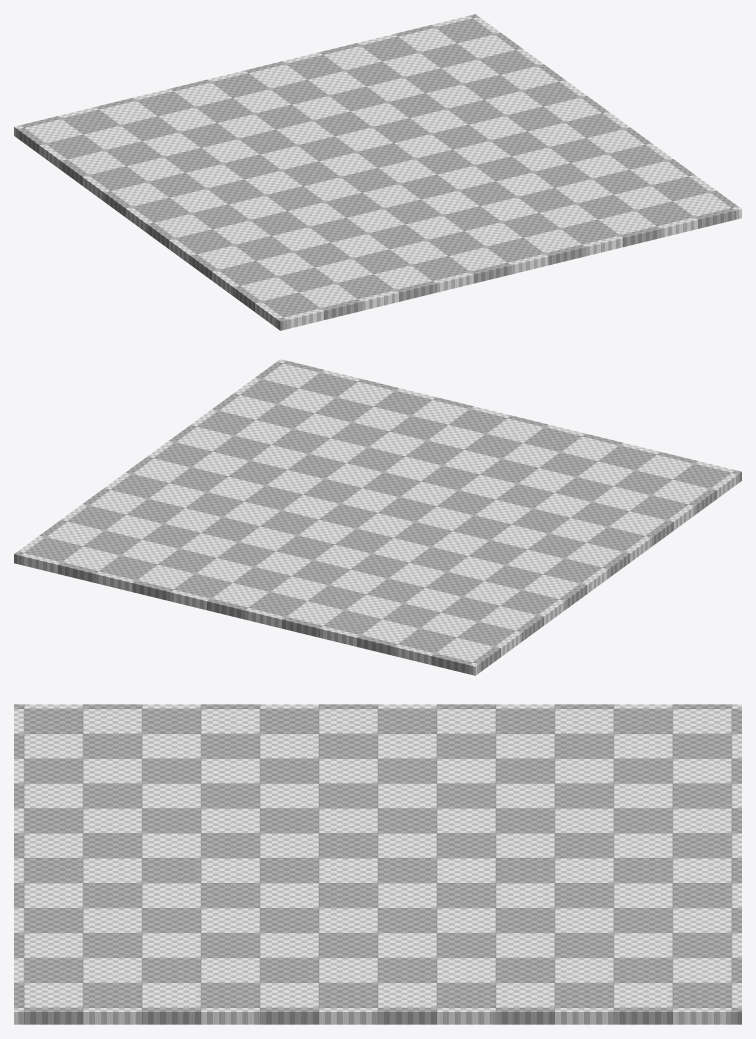
File: floor2804.glb
The picture shows the model from 3 angles, top to bottom: view 1: azimuth 30°, elevation 25°; view 2: azimuth 150°, elevation 25°; view 3: azimuth 270°, elevation 25°; orthographic projection. The views are drawn at different scales.
Visible parts, largest first — view 1: Plane; view 2: Plane; view 3: Plane.
Part boxes in pixels (<box>): Plane: <box>14,14,741,330</box>; Plane: <box>14,359,741,675</box>; Plane: <box>14,704,741,1024</box>.
Size of the model in its own units: 100 by 1.89 by 100.
1 material, 1 textured.
